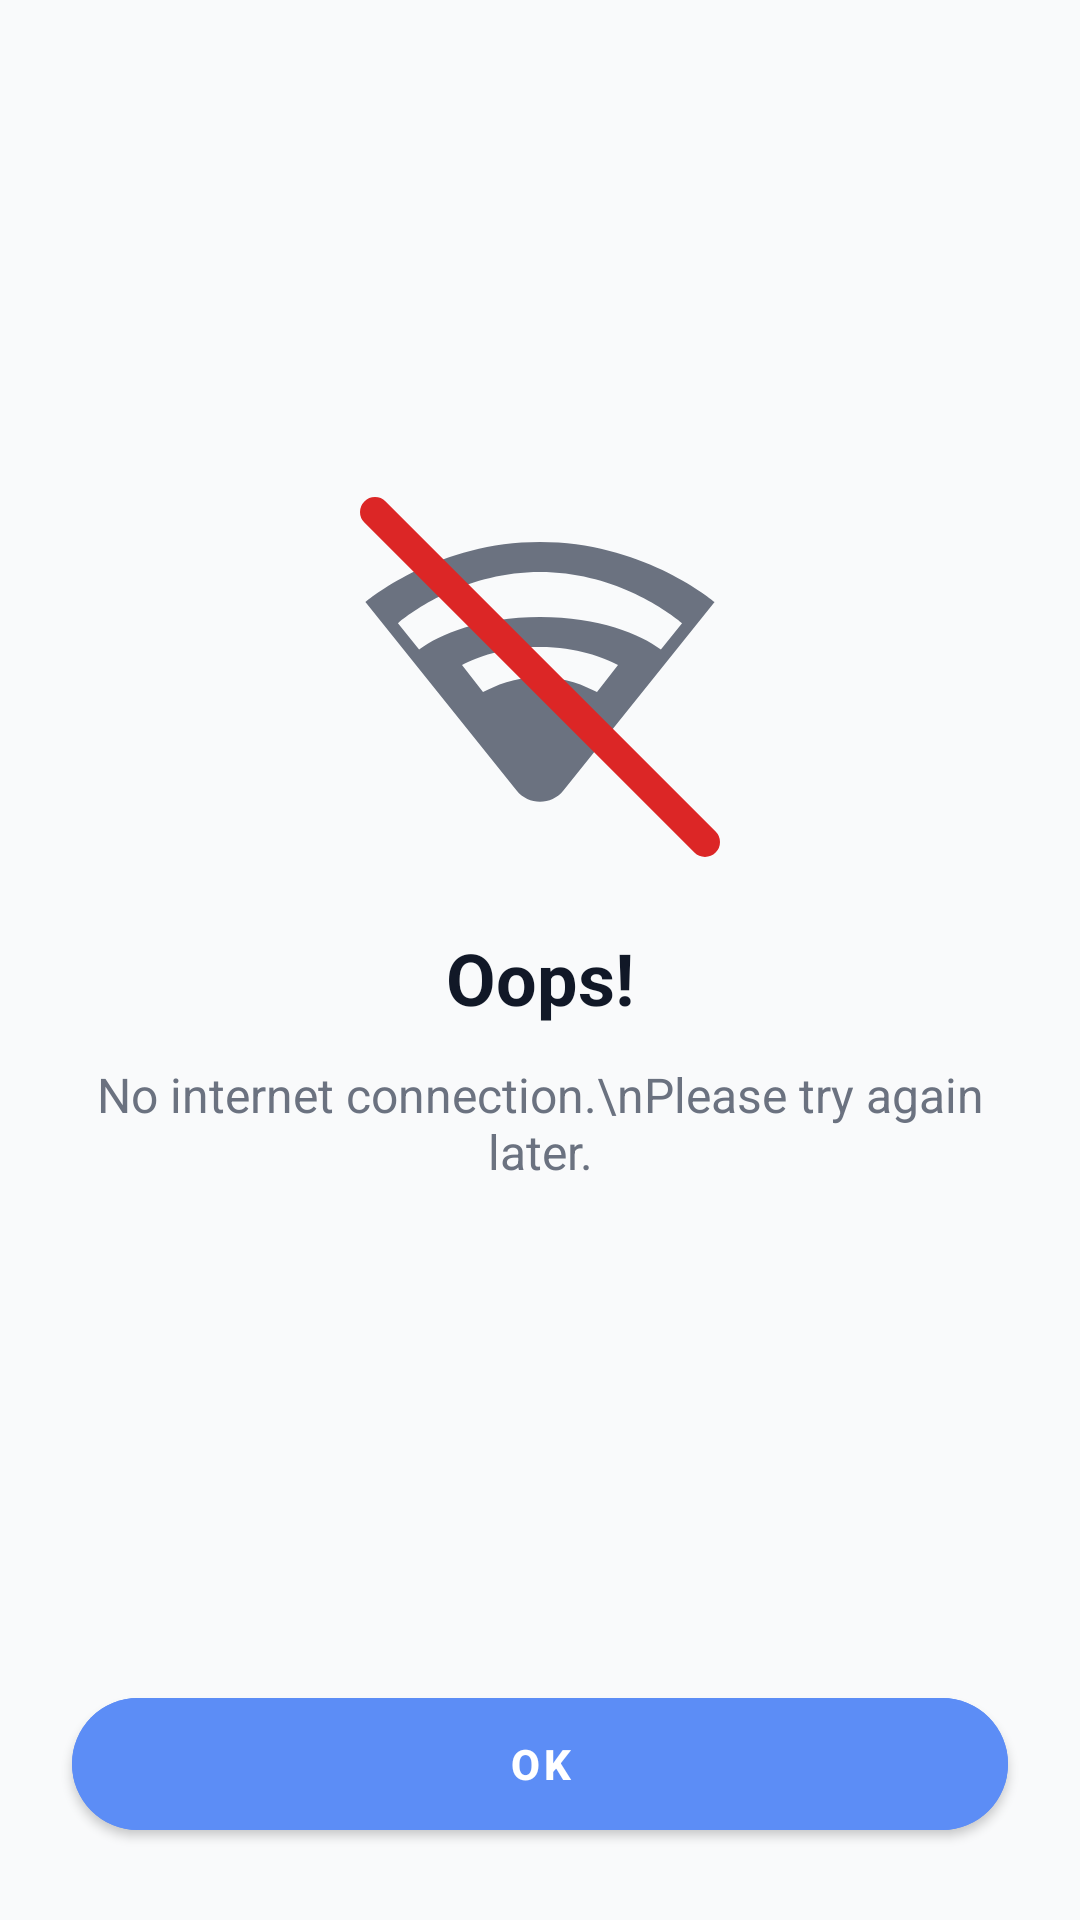

Icon click points for this 1080px x 1920px phone screenshot, format [x,y]:
No internet: [540,677]
